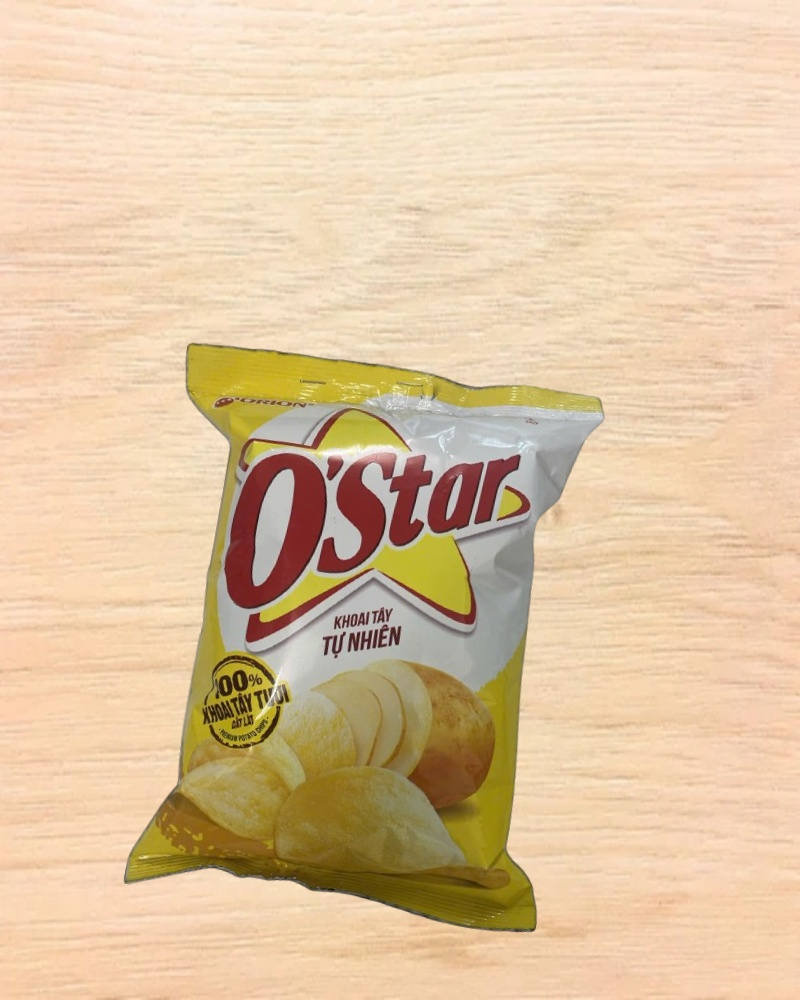O'star: (96, 326, 628, 955)
